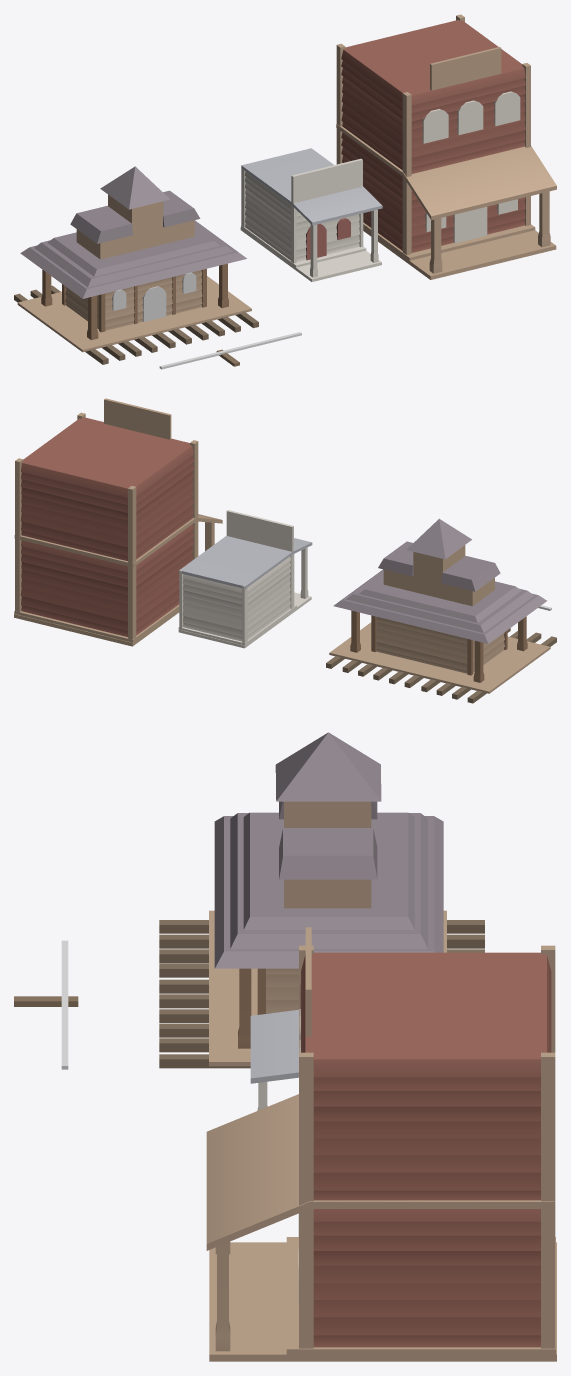
The model's file is nhaga.fbx.
3 renders of one model, top to bottom at view 1: azimuth 30°, elevation 25°; view 2: azimuth 150°, elevation 25°; view 3: azimuth 270°, elevation 25°, orthographic. The views are drawn at different scales.
Parts seen in each view (by area): view 1: house2, station, house1, track1; view 2: house2, station, house1; view 3: house2, station, house1, track1.
Part boxes in pixels (left/top/right/bottom): house2: left=336, top=14, right=556, bottom=279; station: left=14, top=166, right=258, bottom=364; house1: left=240, top=148, right=382, bottom=281; track1: left=159, top=332, right=301, bottom=369; house2: left=14, top=398, right=222, bottom=646; station: left=326, top=518, right=556, bottom=703; house1: left=178, top=510, right=312, bottom=648; house2: left=206, top=927, right=556, bottom=1361; station: left=159, top=732, right=484, bottom=1068; house1: left=250, top=1009, right=298, bottom=1110; track1: left=61, top=940, right=68, bottom=1069.
Bounding box in the file's own units: 47.54 × 18.15 × 25.77.
